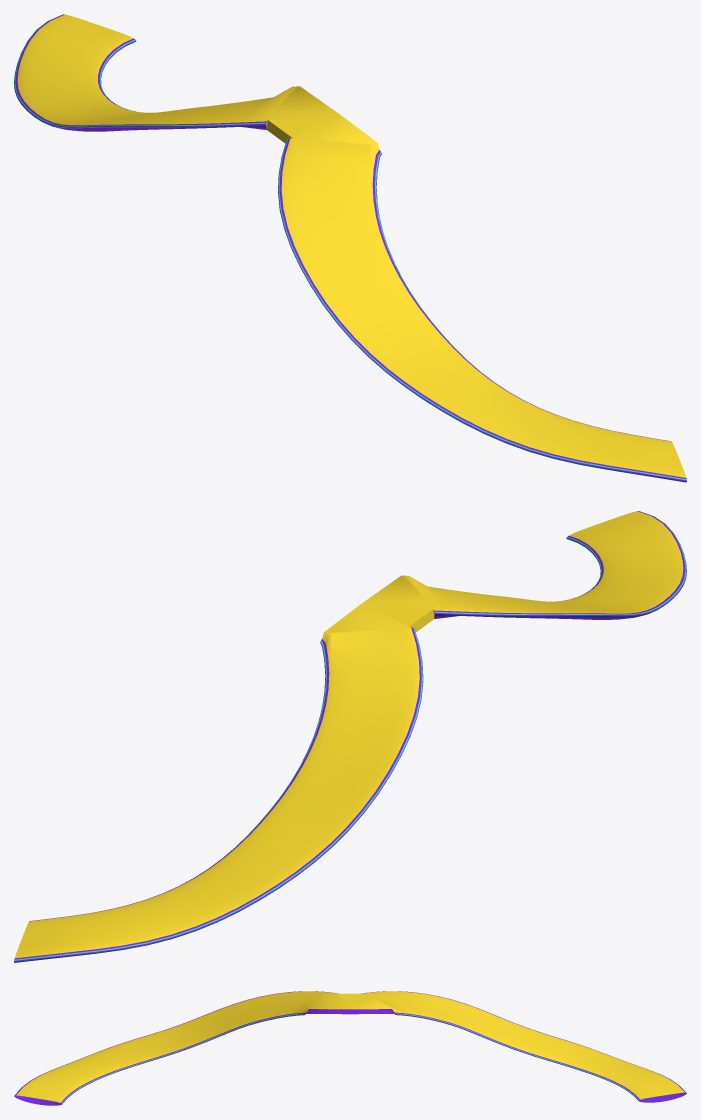
Rendered from Spiral Stairs.FBX.
3 views of the same model, one above another, from view 1: azimuth 30°, elevation 25°; view 2: azimuth 150°, elevation 25°; view 3: azimuth 270°, elevation 25° (orthographic). The views are drawn at different scales.
Parts seen in each view (by area): view 1: Loft007; view 2: Loft007; view 3: Loft007.
Boxes of the visible parts, left/top/right/bottom form: Loft007: left=14, top=14, right=686, bottom=482; Loft007: left=14, top=511, right=686, bottom=962; Loft007: left=14, top=991, right=686, bottom=1105.
Size of the model in its own units: 21.65 by 15.64 by 115.
